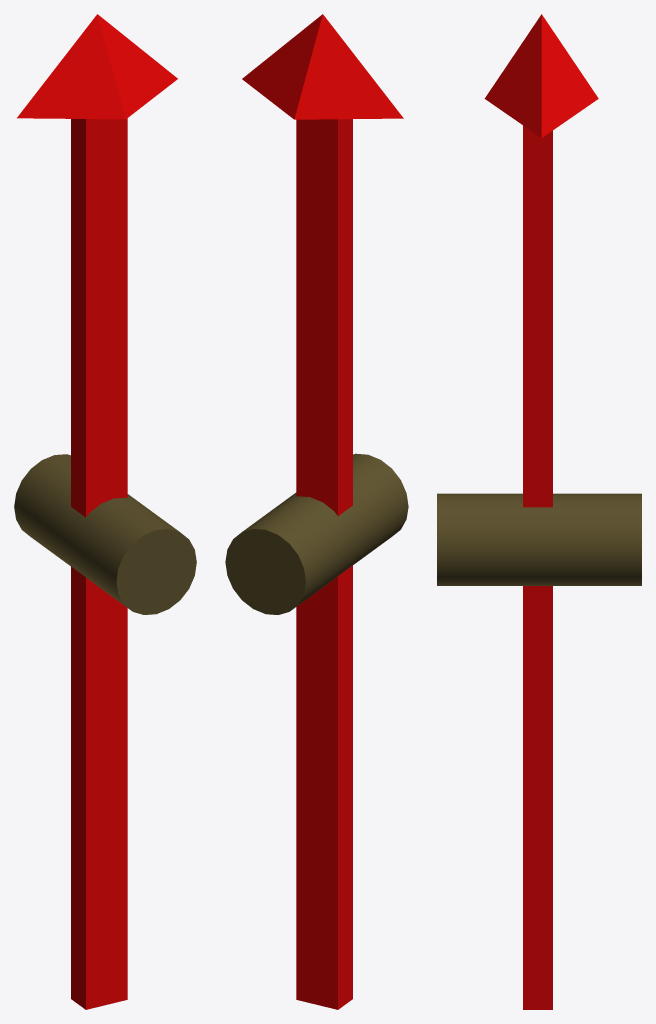
Rendered from compassNeedle.fbx.
3 renders of one model, left to right at view 1: azimuth 30°, elevation 25°; view 2: azimuth 150°, elevation 25°; view 3: azimuth 270°, elevation 25°, orthographic.
Visible parts, largest first — view 1: group1; view 2: group1; view 3: group1.
Boxes of the visible parts, box(x1,y1,x2,y2) form: group1: box(14, 14, 196, 1009); group1: box(225, 14, 408, 1009); group1: box(437, 14, 641, 1009).
Bounding box in the file's own units: 2.53 × 14.7 × 2.77.
